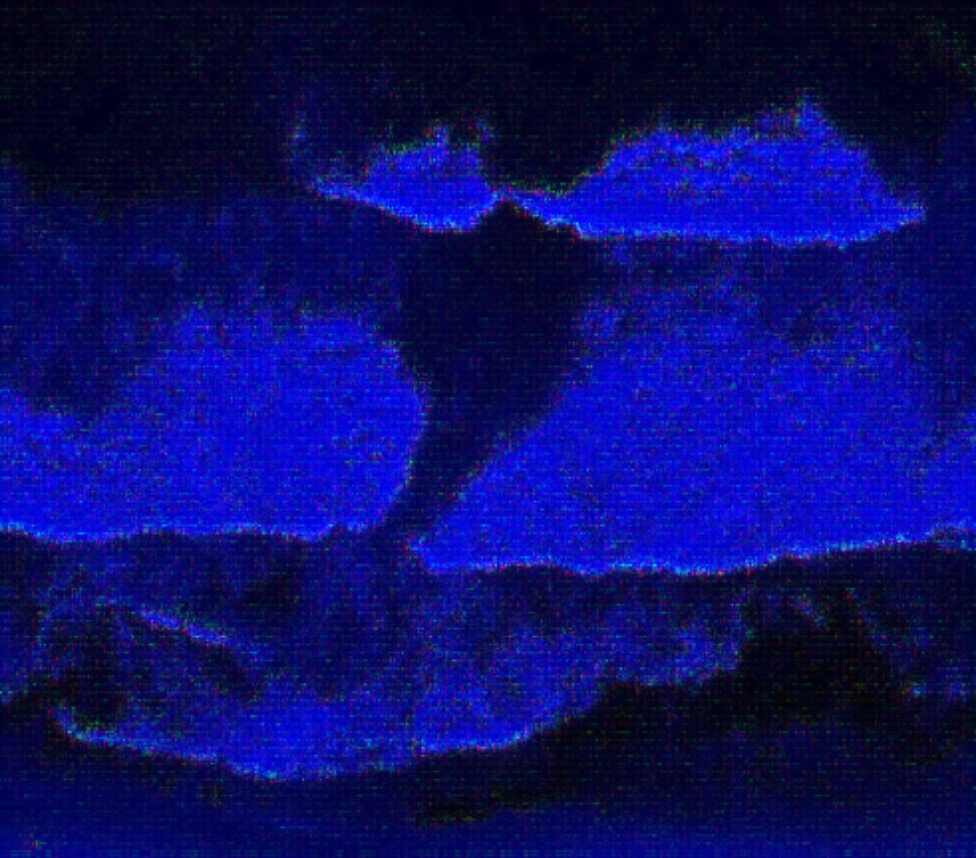rip_current: (290, 40, 636, 564)
